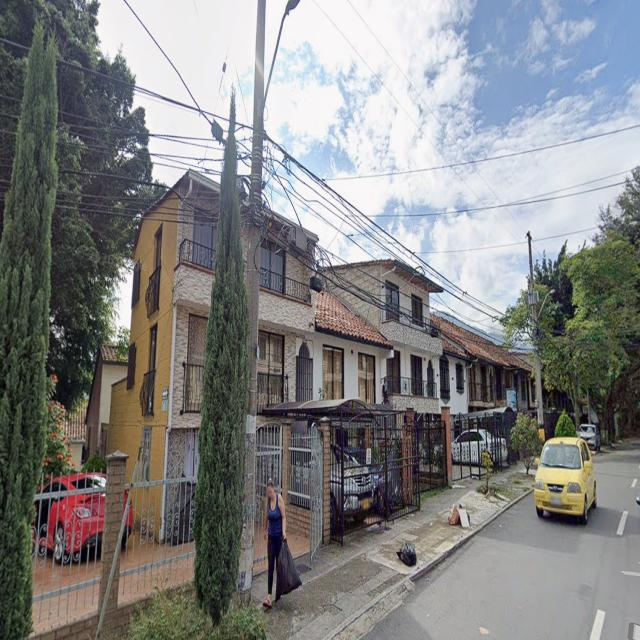Casa: (108, 107, 319, 594), (329, 260, 448, 486), (313, 291, 390, 537), (434, 318, 543, 469), (440, 349, 486, 464)
